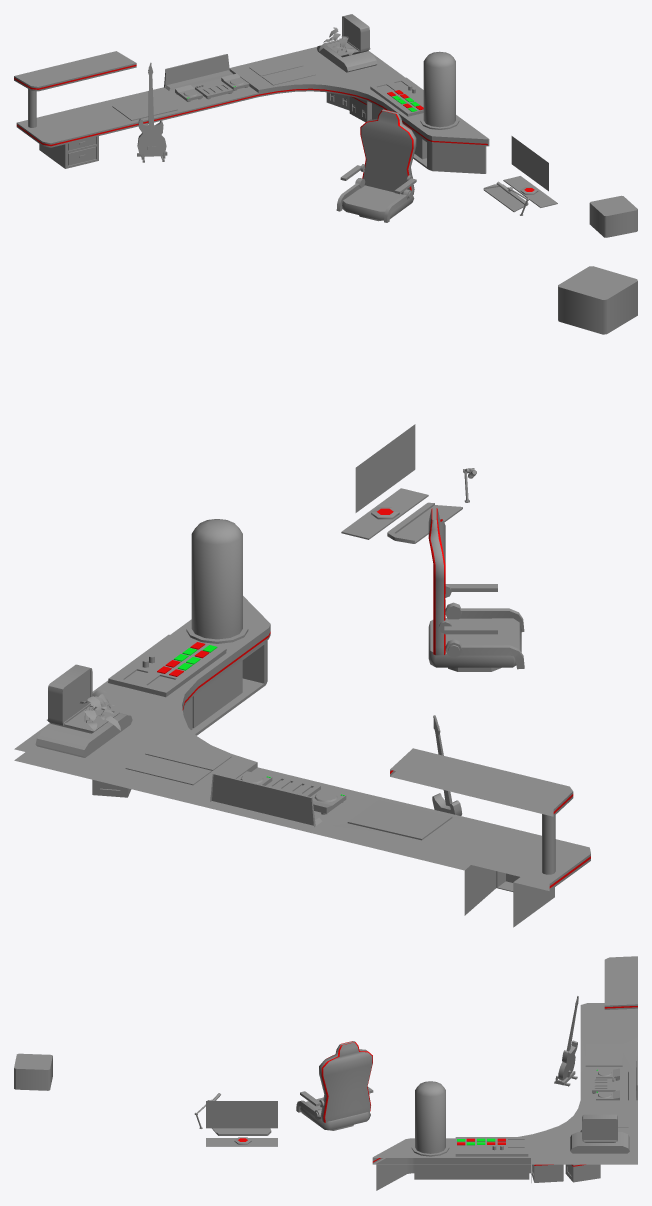
The model's file is Deco2_3ds.fbx.
3 views of the same model, one above another, from view 1: azimuth 30°, elevation 25°; view 2: azimuth 150°, elevation 25°; view 3: azimuth 270°, elevation 25° (orthographic). The views are drawn at different scales.
Visible parts, largest first — view 1: deco2; view 2: deco2; view 3: deco2.
Boxes of the visible parts, x1,y1,x2,y2 form: deco2: (14,14,637,237); deco2: (14,266,637,927); deco2: (14,956,637,1190).
Bounding box in the file's own units: 10.08 × 3.15 × 16.75.
